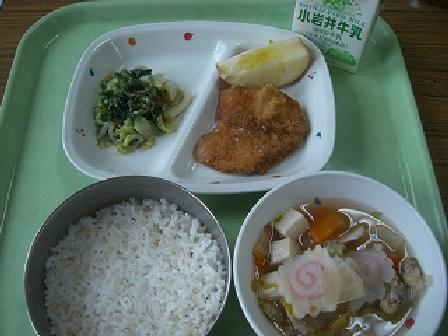Apple: (215, 32, 311, 93)
Milk: (290, 0, 385, 52)
Rice: (26, 179, 230, 335)
Salad: (85, 62, 193, 146)
Soups: (245, 185, 438, 335)
cutlet: (199, 85, 313, 173)
